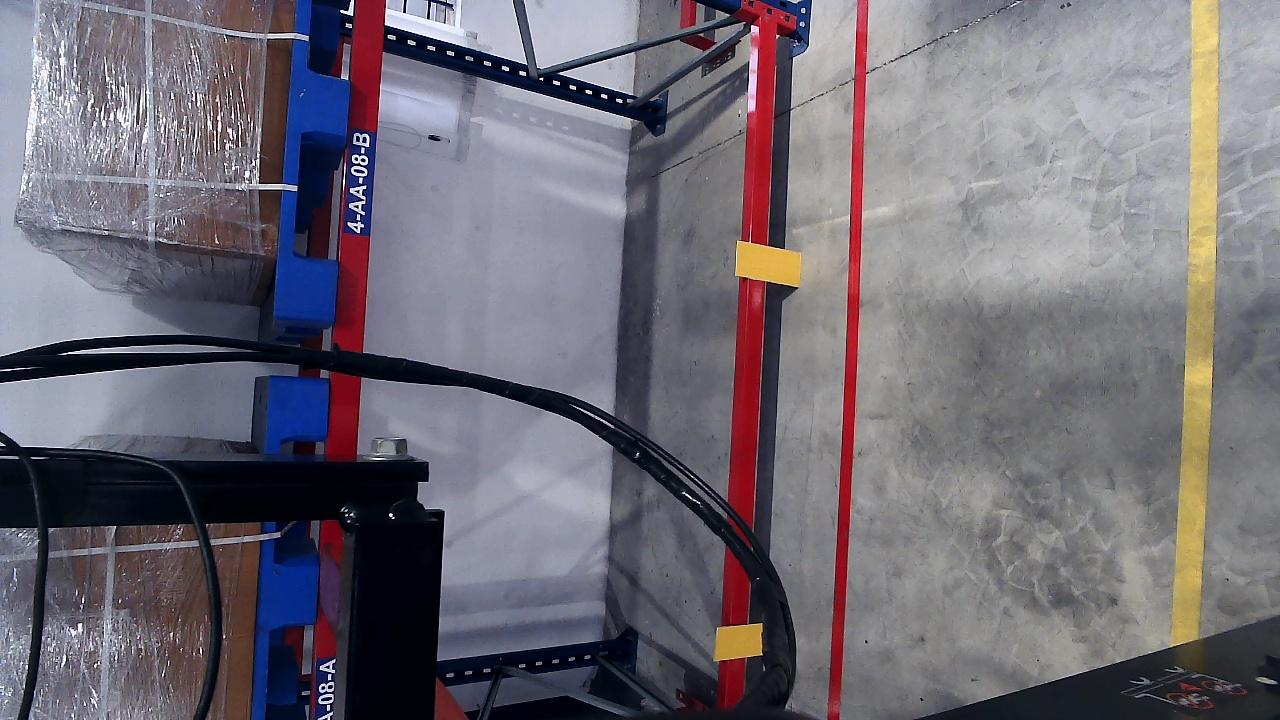h_rack: (331, 2, 388, 720), (724, 25, 777, 708)
orange_strip: (735, 241, 801, 287), (714, 624, 763, 660)
red_line: (834, 11, 870, 714)
small_pallet: (268, 1, 362, 325), (253, 378, 327, 719)
yellow_line: (1171, 0, 1219, 646)
